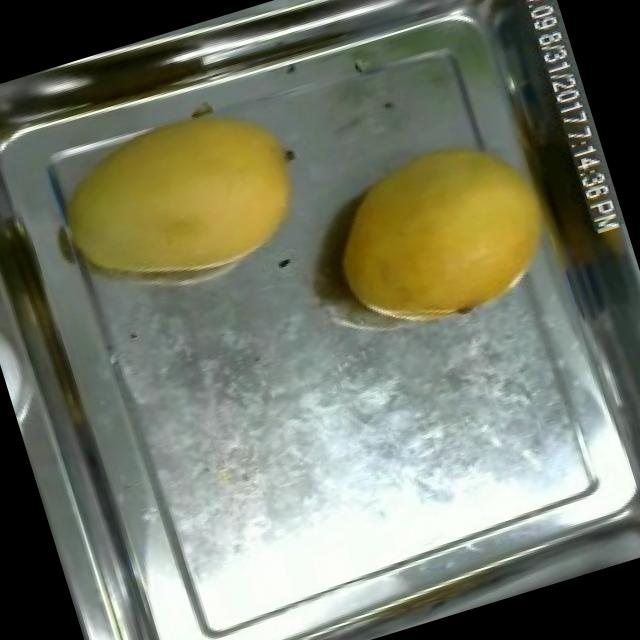fruit: (28, 74, 330, 326), (296, 106, 577, 357)
